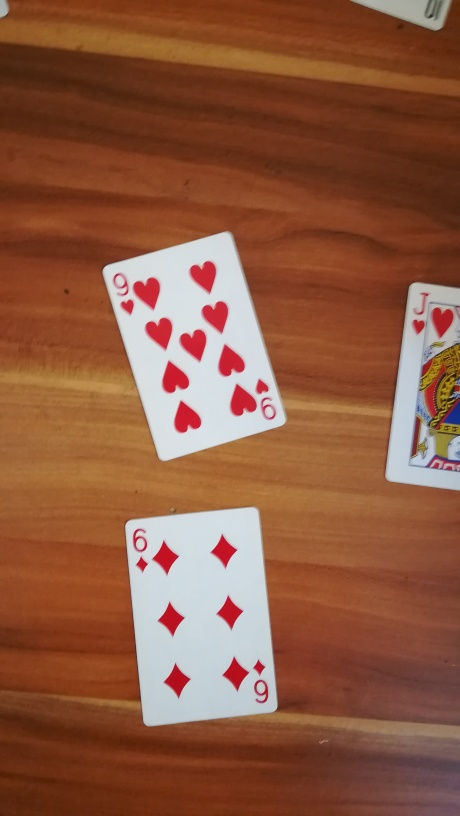fk 6: (109, 506, 292, 752)
hx 9: (98, 228, 297, 481)
hx j: (377, 261, 460, 510)
